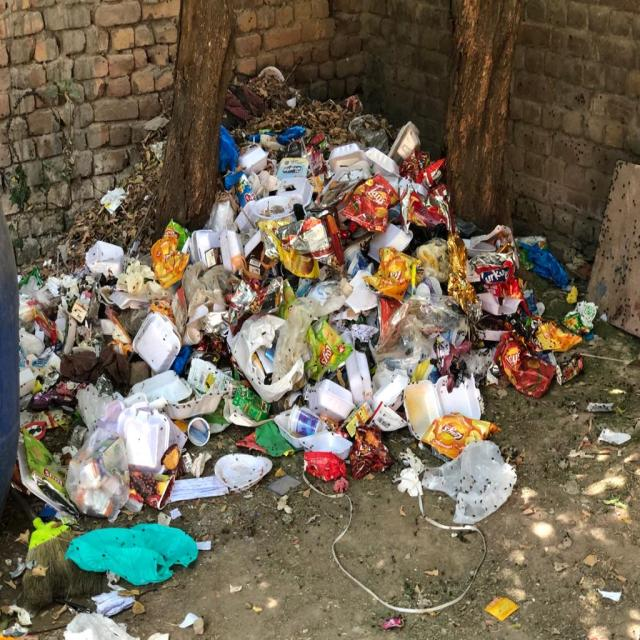plastic: (64, 524, 198, 585), (422, 440, 516, 522), (65, 422, 130, 521)
styrofoam: (132, 312, 191, 404), (403, 376, 483, 439), (117, 407, 169, 472), (308, 379, 355, 422), (299, 431, 352, 459), (388, 121, 419, 164), (373, 372, 408, 409), (188, 229, 221, 268), (328, 142, 369, 173), (365, 148, 398, 175), (239, 146, 268, 172)
